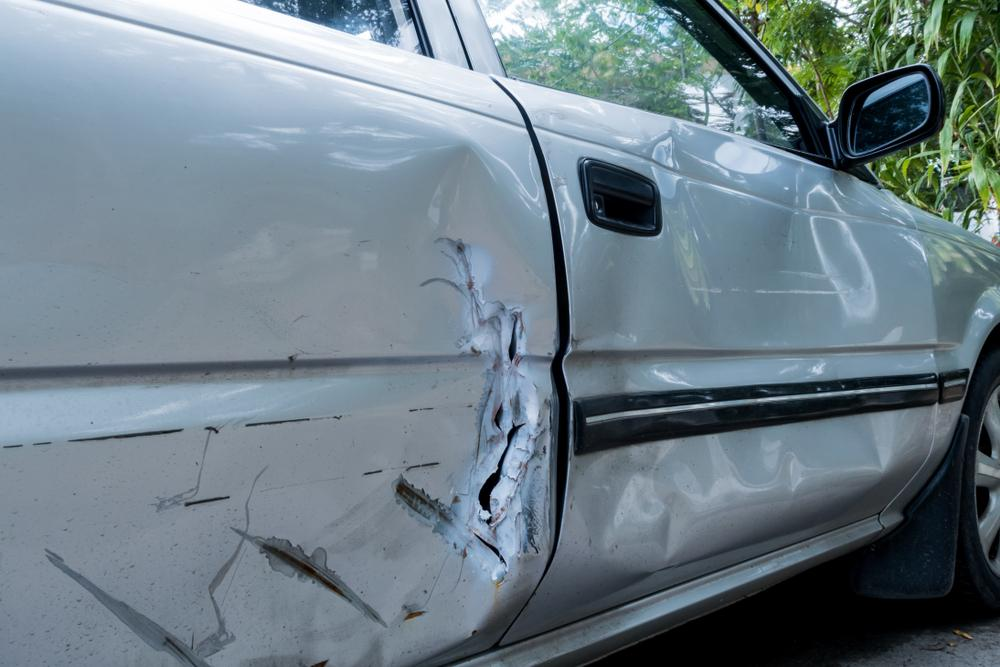crack: (476, 420, 526, 527), (472, 532, 512, 568), (506, 313, 519, 364), (493, 401, 504, 432)
dent: (572, 135, 900, 559), (213, 142, 513, 461)
scratch: (40, 549, 242, 667), (239, 532, 385, 627), (388, 476, 450, 522)
